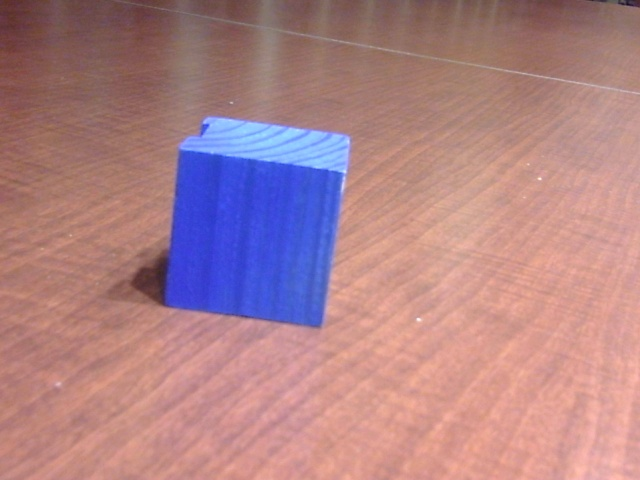BlueBlock: (164, 114, 350, 328)
